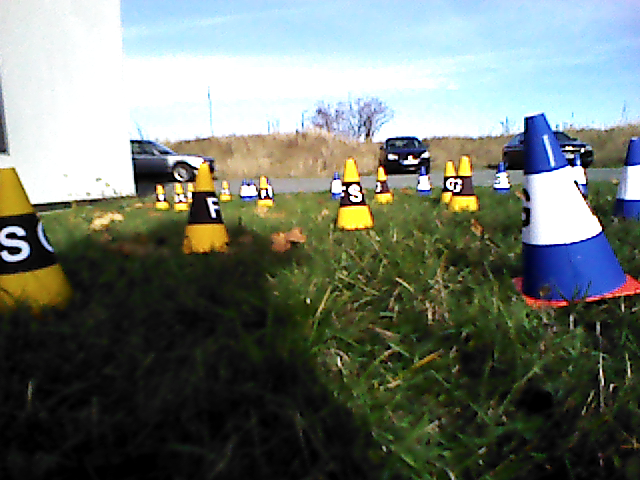bluecone: (523, 114, 622, 297), (614, 137, 640, 217), (493, 161, 511, 195)
yellowcone: (1, 166, 72, 309), (182, 164, 234, 253), (337, 158, 373, 229), (454, 157, 477, 212), (373, 165, 393, 203), (443, 160, 458, 204)
